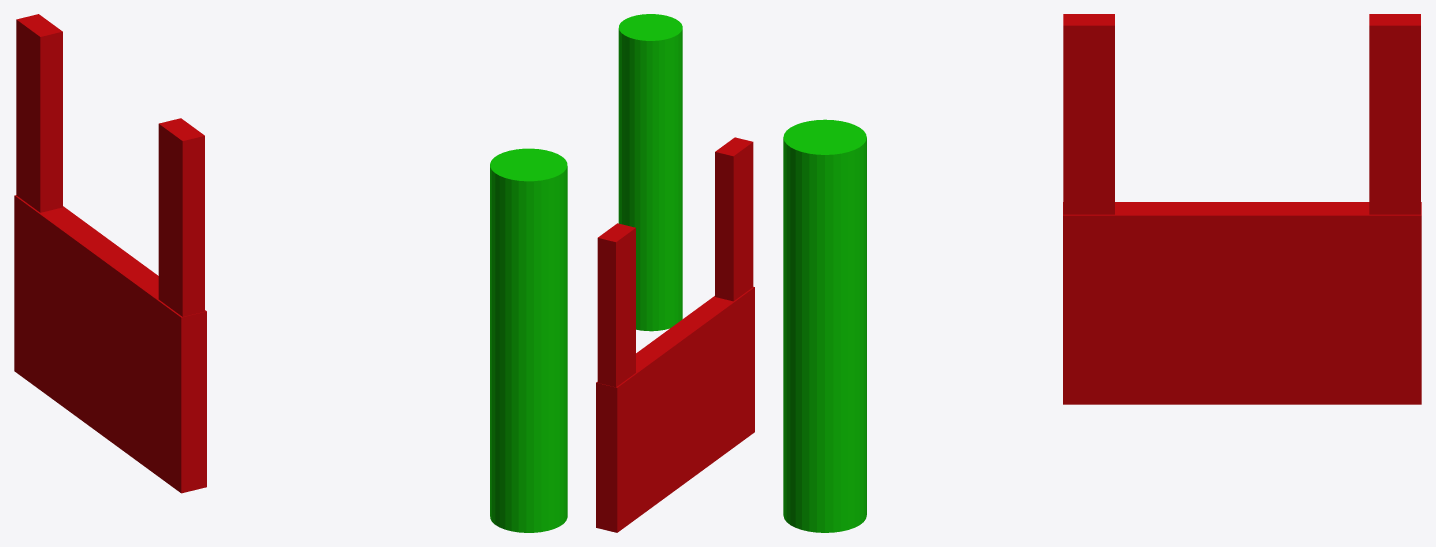
Rendered from simple_obstacle_3.dae.
3 views of the same model, side by side, from view 1: azimuth 30°, elevation 25°; view 2: azimuth 150°, elevation 25°; view 3: azimuth 270°, elevation 25° (orthographic). The views are drawn at different scales.
Visible parts, largest first — view 1: Cube_001, Cylinder, Cube_002, Cube; view 2: Cube_001, Cylinder, Cube, Cube_002; view 3: Cube_001, Cylinder, Cube, Cube_002.
Boxes of the visible parts, x1=… form: Cube_001: x1=14, y1=195, x2=206, y2=493; Cylinder: x1=490, y1=148, x2=567, y2=532; Cube_002: x1=16, y1=14, x2=62, y2=212; Cube: x1=158, y1=118, x2=204, y2=316; Cube_001: x1=596, y1=287, x2=754, y2=532; Cylinder: x1=618, y1=14, x2=682, y2=331; Cube: x1=715, y1=137, x2=753, y2=301; Cube_002: x1=597, y1=223, x2=635, y2=387; Cube_001: x1=1063, y1=202, x2=1421, y2=404; Cylinder: x1=783, y1=119, x2=866, y2=532; Cube: x1=1063, y1=14, x2=1114, y2=214; Cube_002: x1=1369, y1=14, x2=1420, y2=214.
Bounding box in the file's own units: 2.41 × 4.59 × 3.
